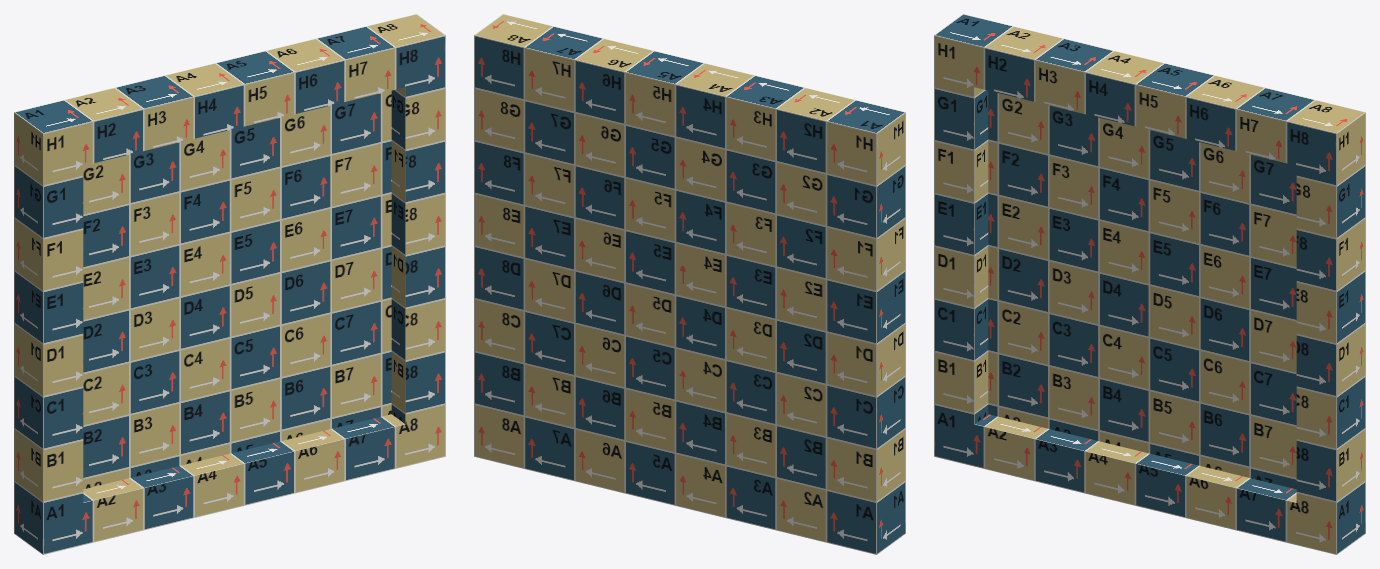
Rendered from WALL_RecessedPanel.fbx.
3 views of the same model, side by side, from view 1: azimuth 30°, elevation 25°; view 2: azimuth 150°, elevation 25°; view 3: azimuth 330°, elevation 25° (orthographic).
Visible parts, largest first — view 1: WALL_RecessedPanel; view 2: WALL_RecessedPanel; view 3: WALL_RecessedPanel.
Boxes of the visible parts, x1=… form: WALL_RecessedPanel: x1=14, y1=14, x2=445, y2=554; WALL_RecessedPanel: x1=474, y1=14, x2=905, y2=554; WALL_RecessedPanel: x1=934, y1=14, x2=1365, y2=554.
Size of the model in its own units: 200 by 200 by 25.
Materials: 1 (1 with a texture image).
